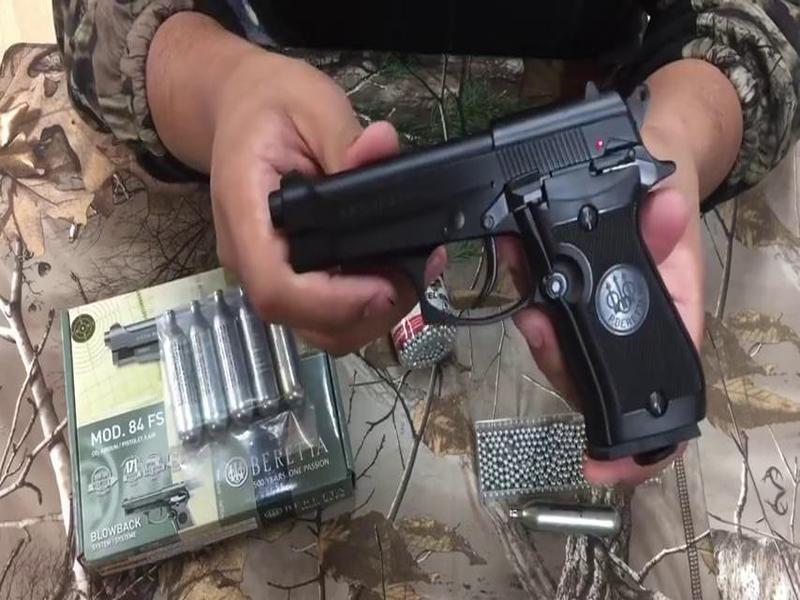Pistola: (209, 79, 726, 483)
